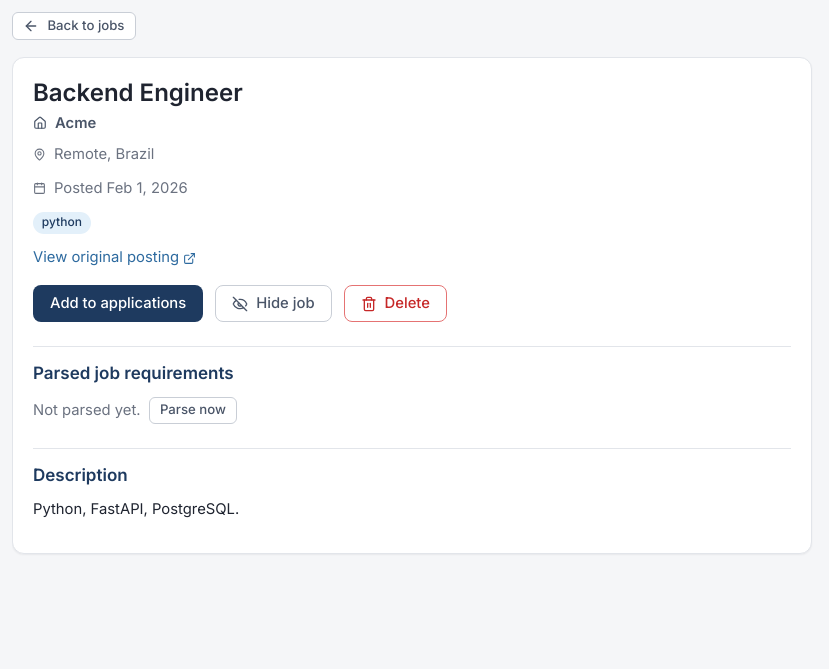
Test case: JobDetailComponent › tracks the job, then links to its application workspace
What coordinates should you click on to do the following:
click the button "Add to applications"
I would click on:
 (118, 304)
Its box is [33,285,203,322].
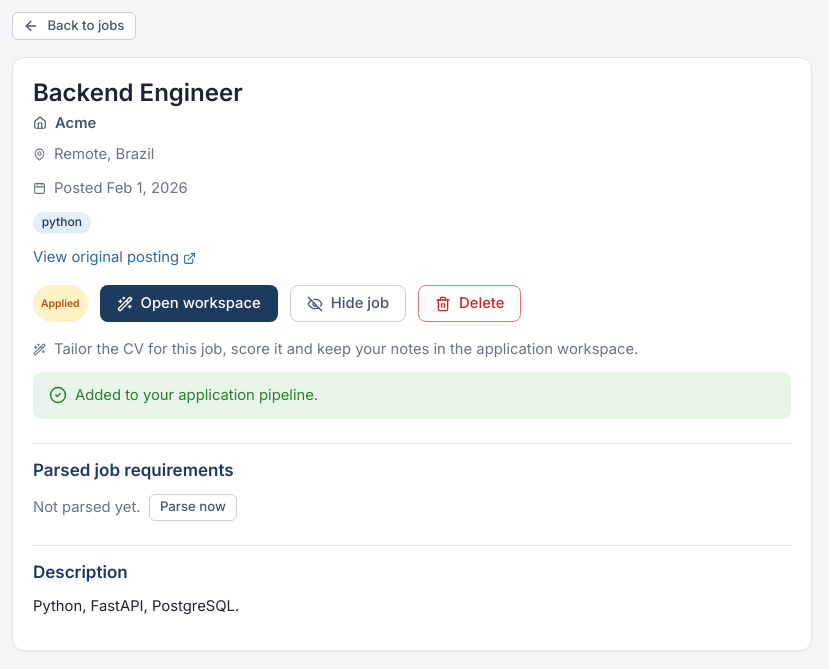
Now the text "Open workspace" is shown, box [100,285,278,322]
